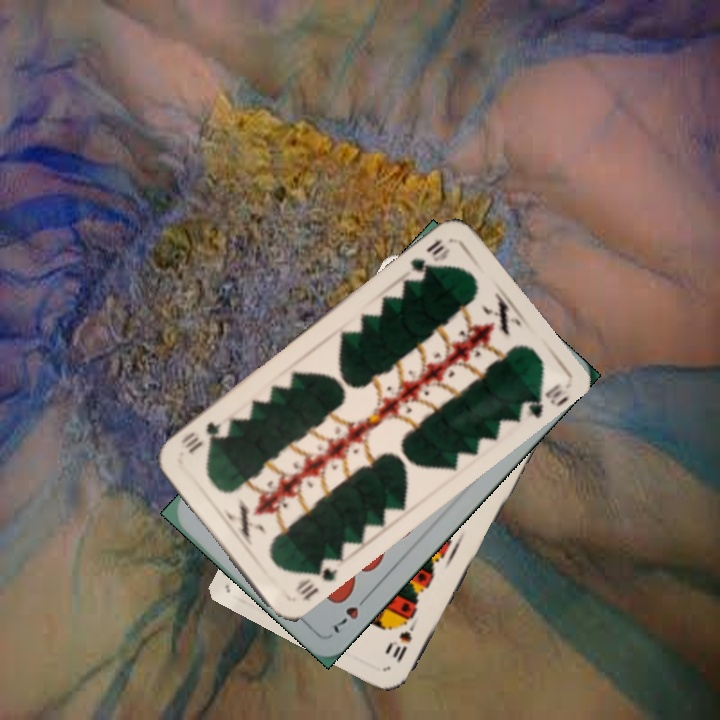G10: (291, 559, 341, 604), (406, 234, 453, 276)
H7: (329, 590, 372, 636)
S10: (388, 613, 421, 666)
